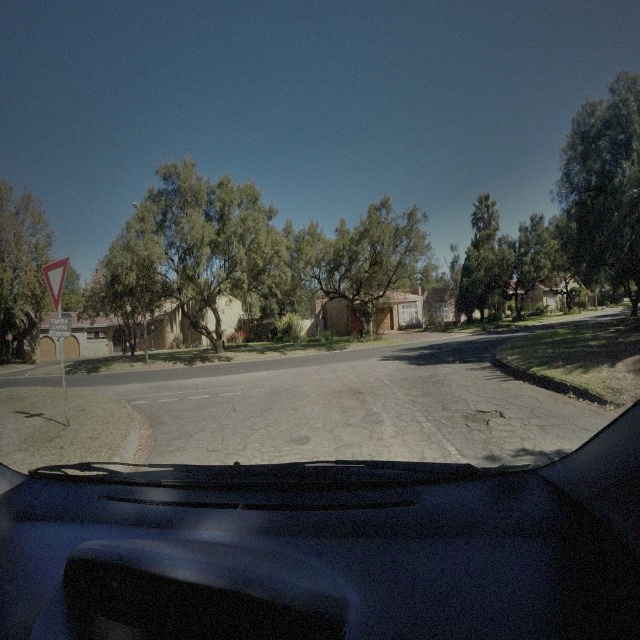pothole: (460, 406, 508, 431)
